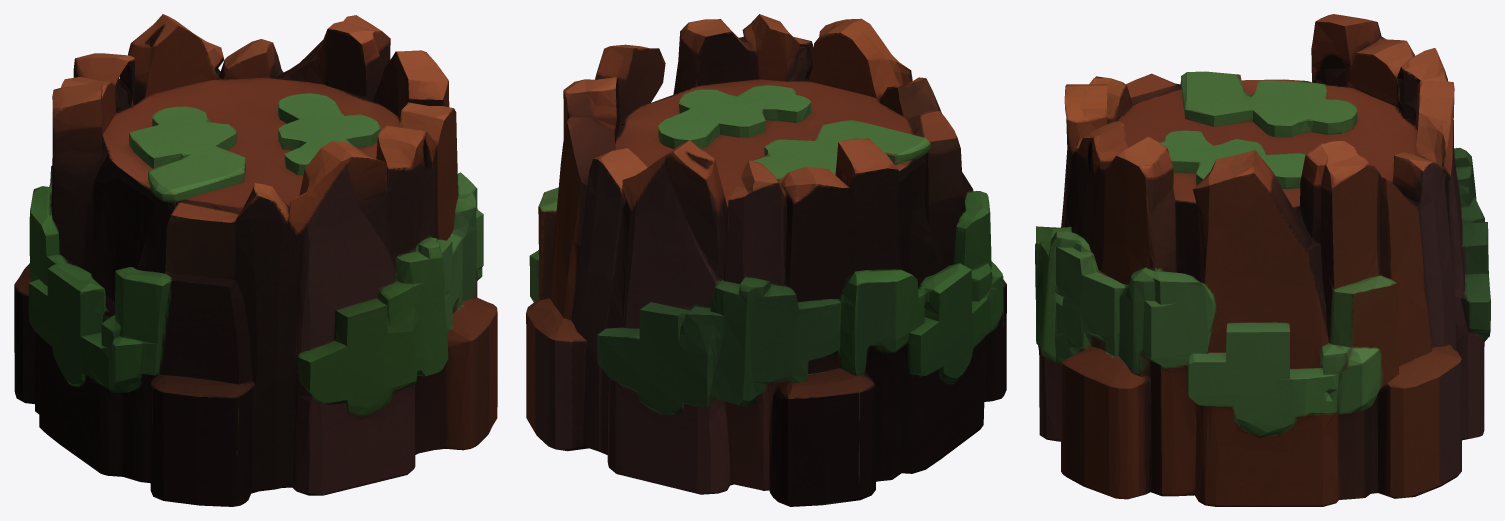
File: mossy-stump.glb
3 views of the same model, side by side, from view 1: azimuth 30°, elevation 25°; view 2: azimuth 150°, elevation 25°; view 3: azimuth 270°, elevation 25° (orthographic). The views are drawn at different scales.
Parts seen in each view (by area): view 1: world; view 2: world; view 3: world.
Boxes of the visible parts, x1,y1,x2,y2 form: world: [14, 14, 497, 506]; world: [526, 14, 1006, 506]; world: [1035, 14, 1490, 506].
Size of the model in its own units: 0.7888 by 0.6401 by 0.7927.
Materials: 1 (1 with a texture image).
